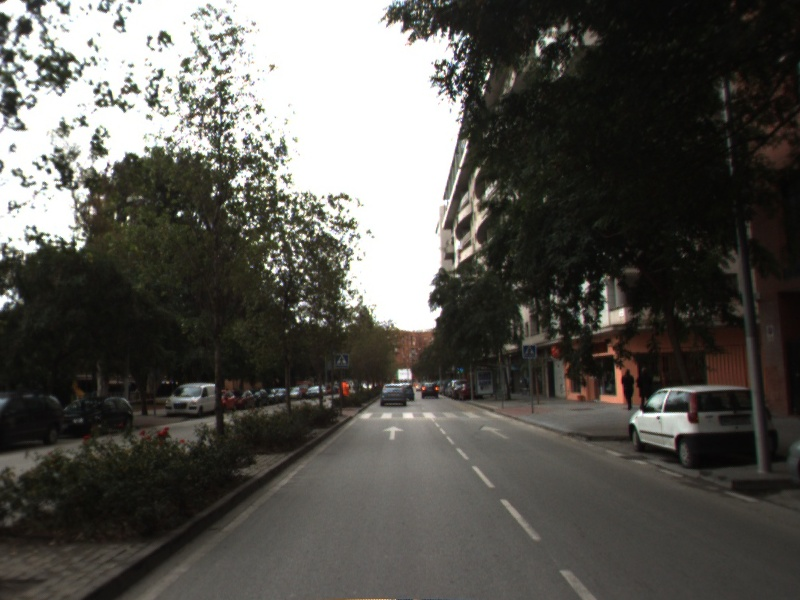STRAIGHT: (478, 423, 512, 441), (380, 424, 407, 442)
